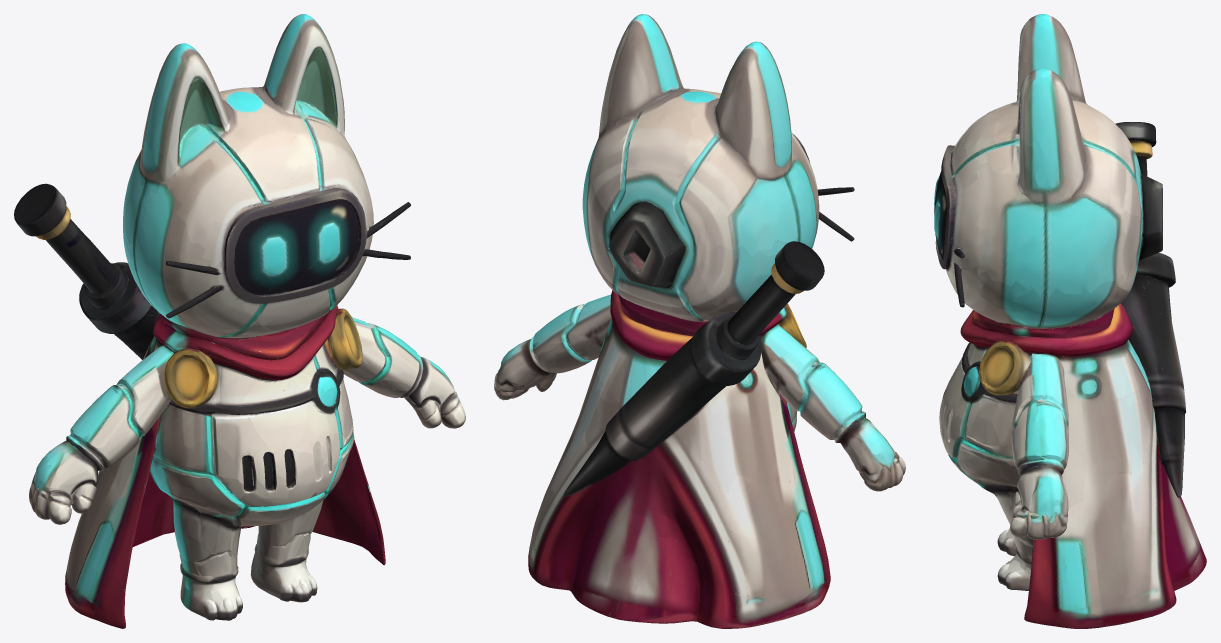
The model's file is hzd_rig_apose.glb.
The picture shows the model from 3 angles, left to right: view 1: azimuth 30°, elevation 25°; view 2: azimuth 150°, elevation 25°; view 3: azimuth 270°, elevation 25°; orthographic projection. The views are drawn at different scales.
Size of the model in its own units: 1.49 by 1.9 by 0.8963.
Materials: 1 (1 with a texture image).
